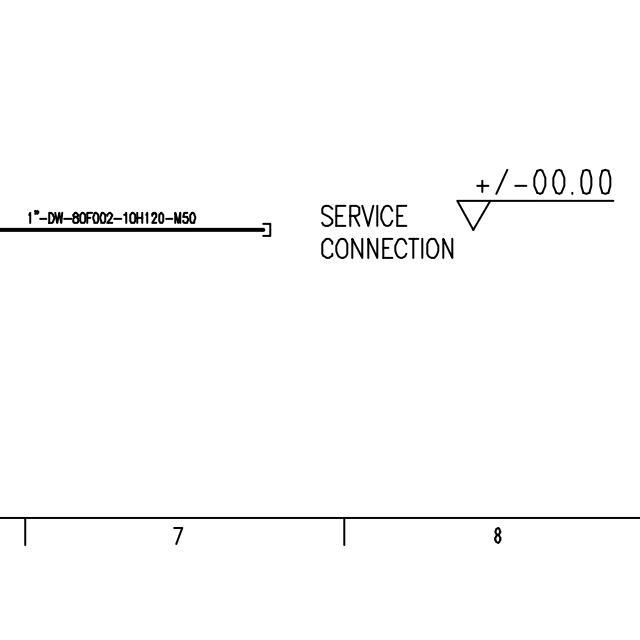EC: (240, 217, 273, 241)
